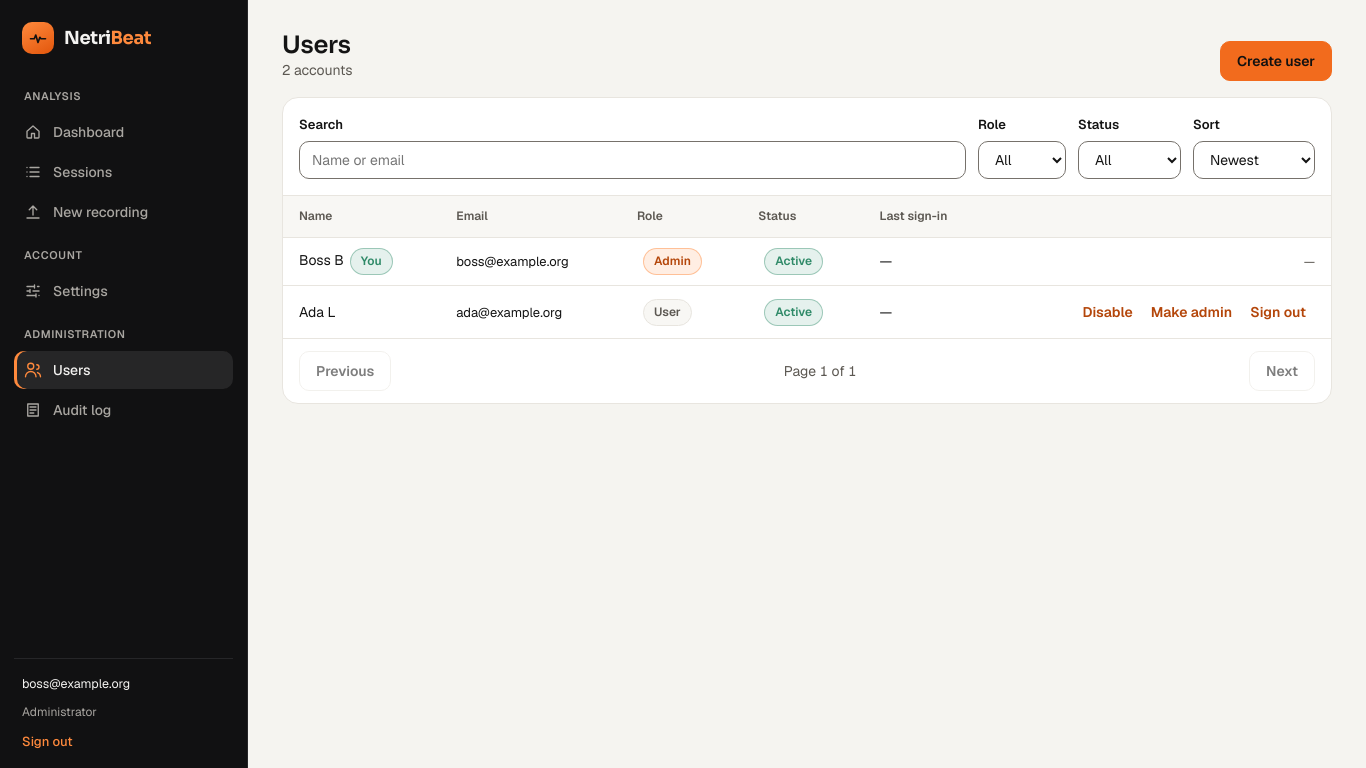
Test: admin users › lists users, hides actions on own row, disables another user after confirming
Step 1. Click the button "Disable" → point(1108, 312), box left=1073, top=296, right=1142, bottom=328
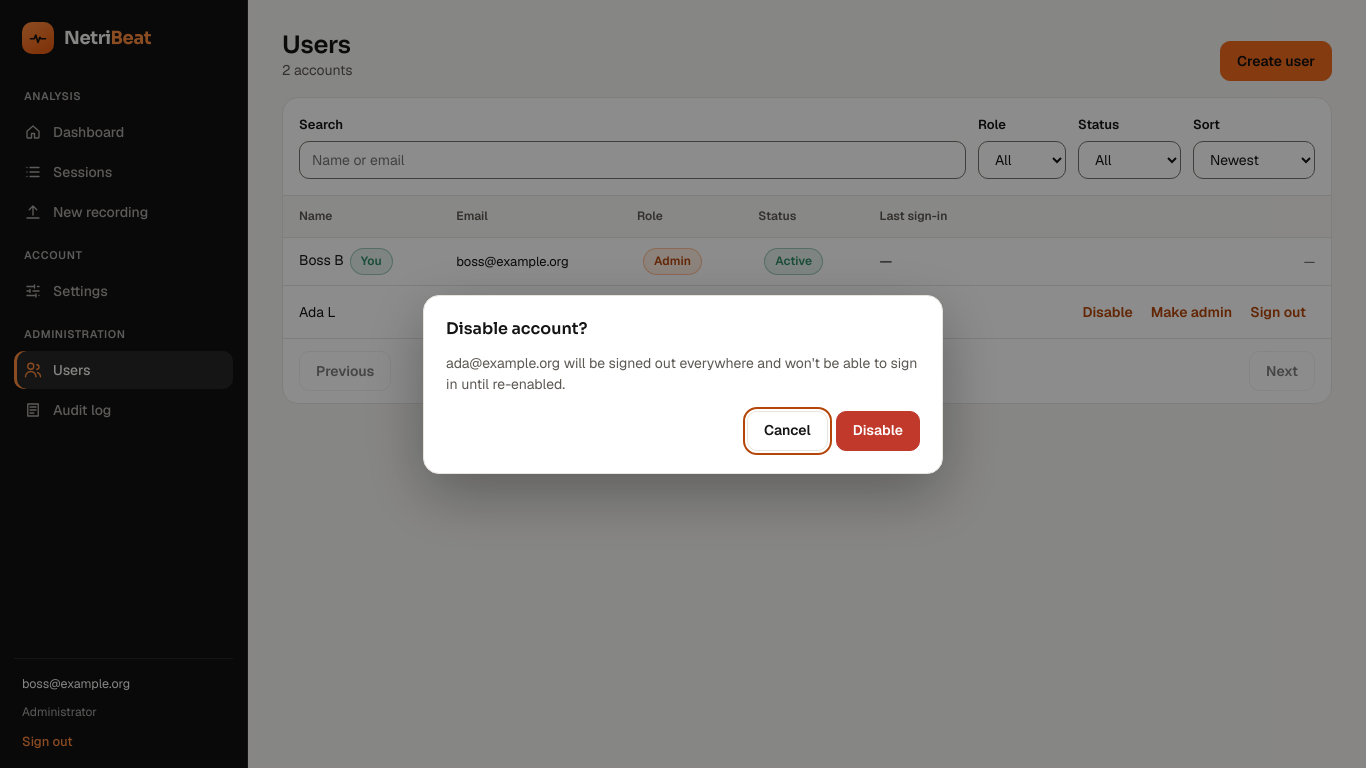
Step 2. Click the button "Disable" → point(878, 430), box left=836, top=410, right=920, bottom=450
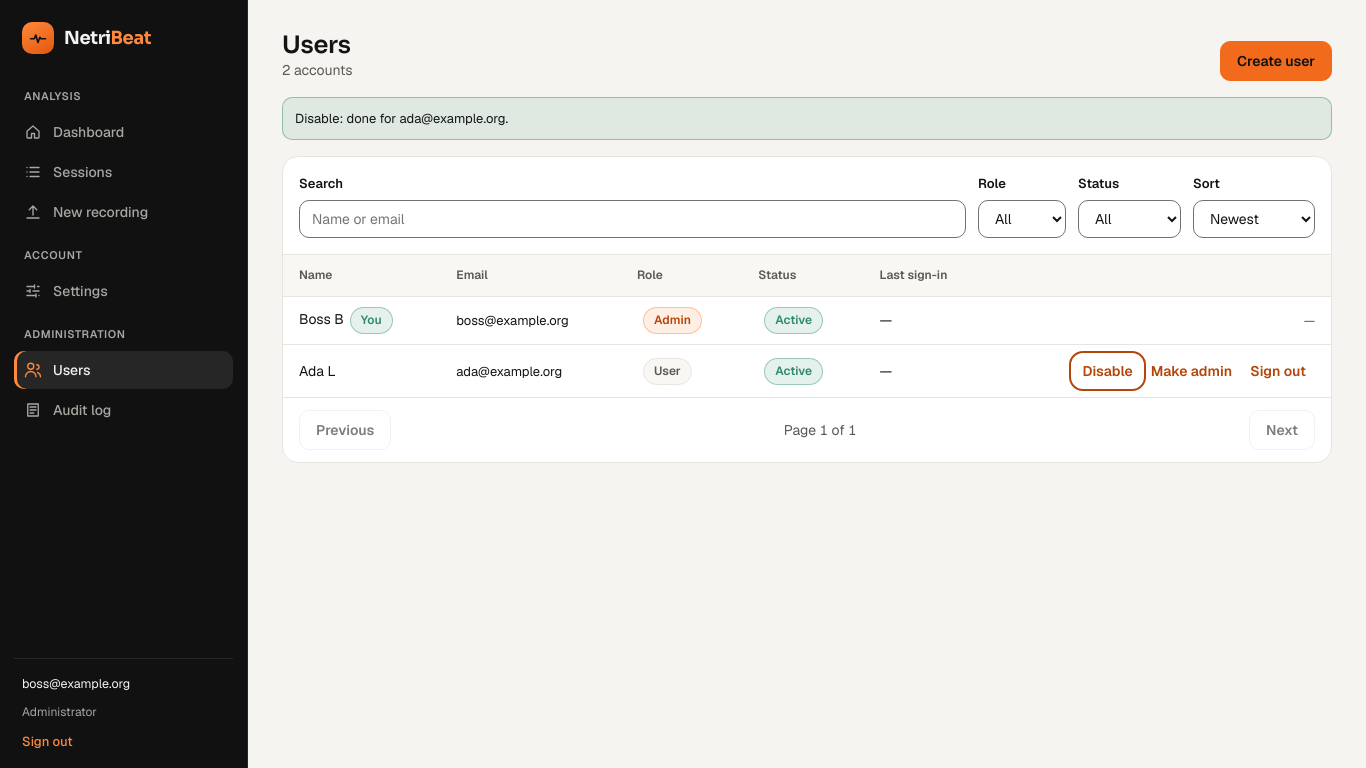
expect the text "Disable: done for ada@example.org." is shown: met, box left=282, top=97, right=1332, bottom=140
